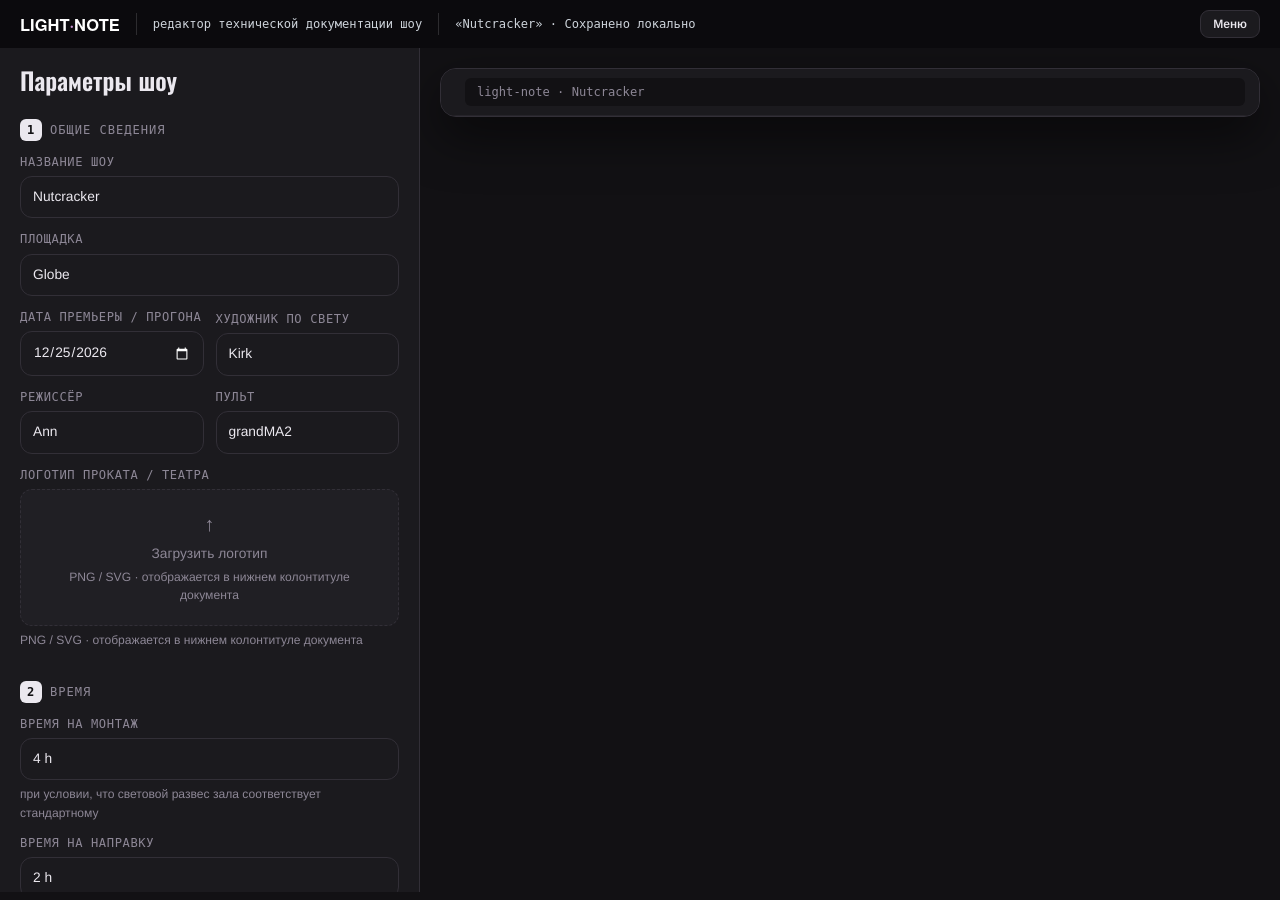
switching the language in the app › a broken saved choice can't break saving: the switch still works
Click the button with class "menu__button" at (1230, 24), box [1200,10,1260,38]
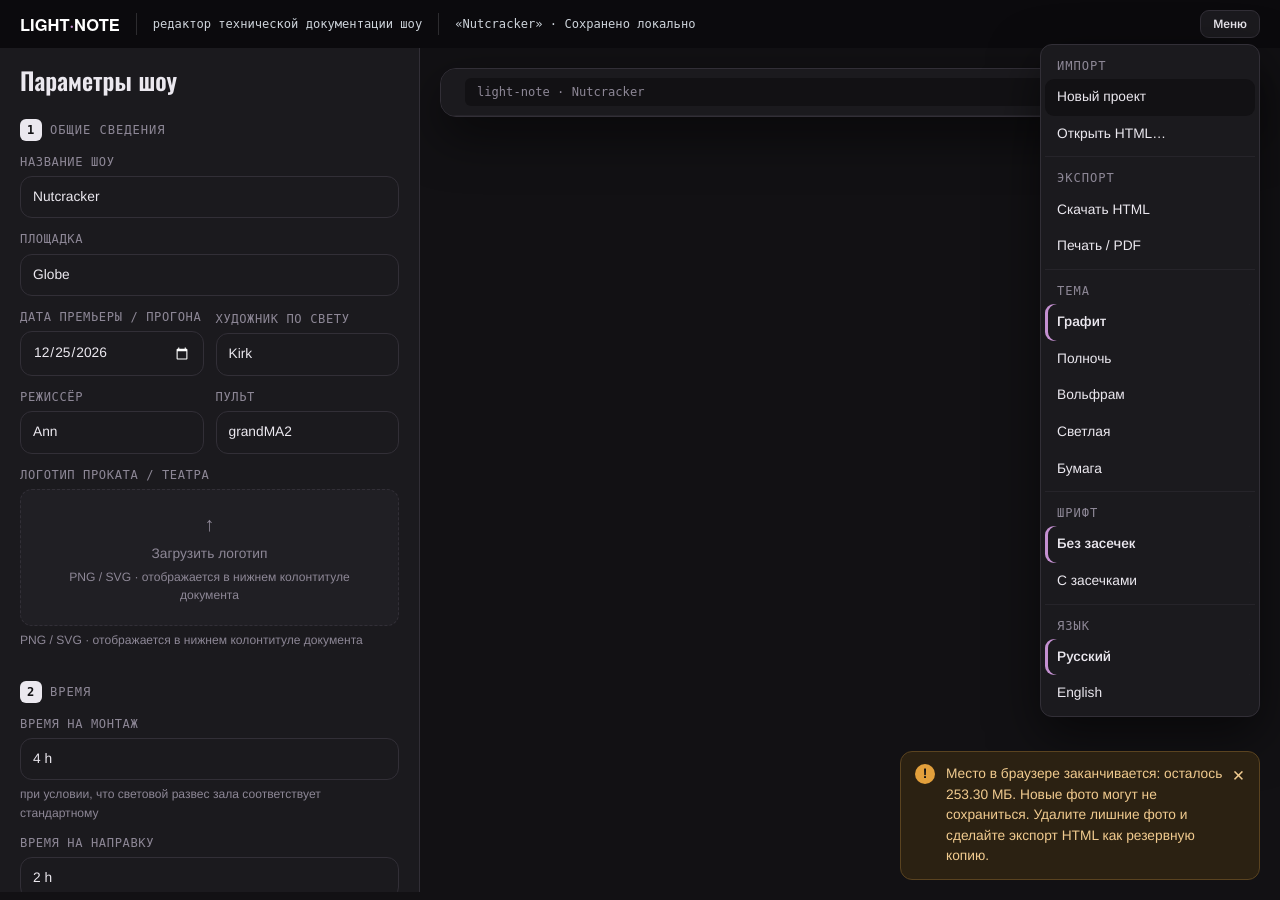
Click the menu item "English" at (1150, 694), box [1045,675,1255,712]
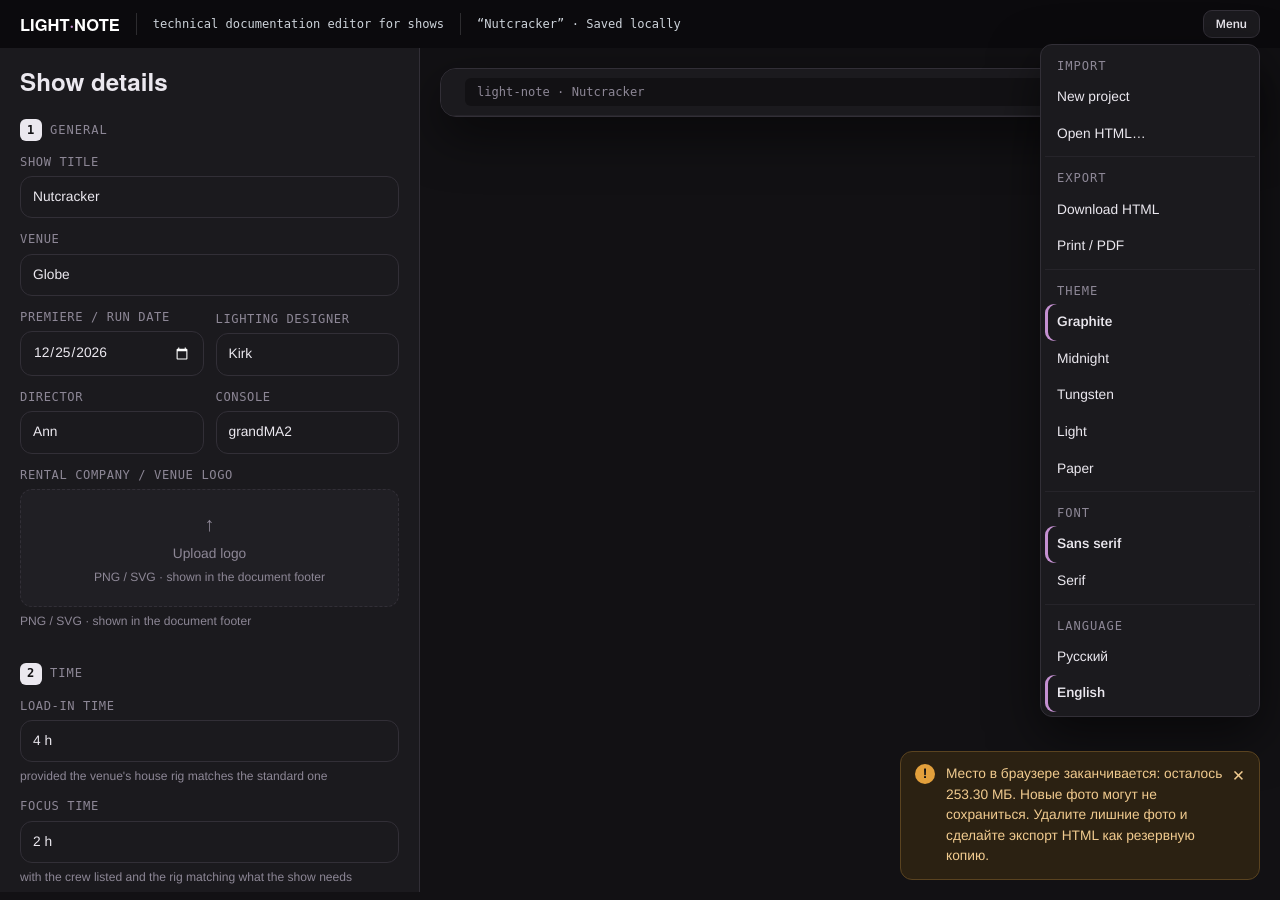
Expected: the button with class "menu__button" reads "Menu", [1203,10,1260,38]
